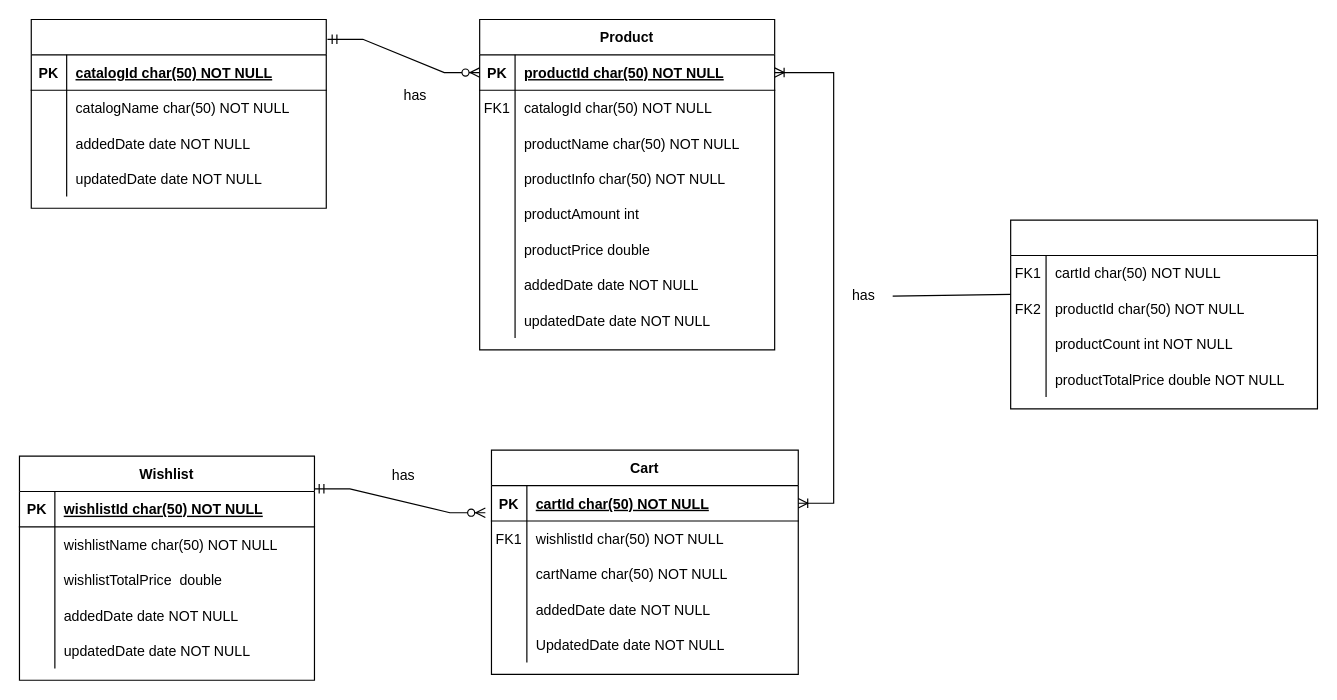
Image size: 1337x700. Some labels were removed from this diagram. Here are the shapes that lost their labels. From the top down, the box of each, then its label:
(30, 18, 326, 208): ProductCatalog
(1009, 219, 1317, 409): CartProduct
